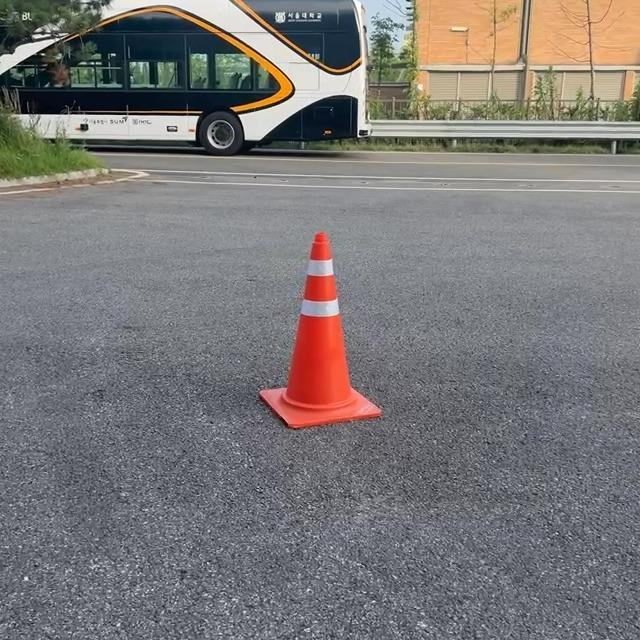fallen_object: (247, 196, 411, 456)
